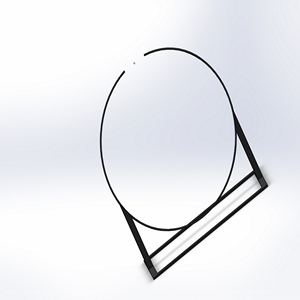circle: (96, 43, 271, 280)
